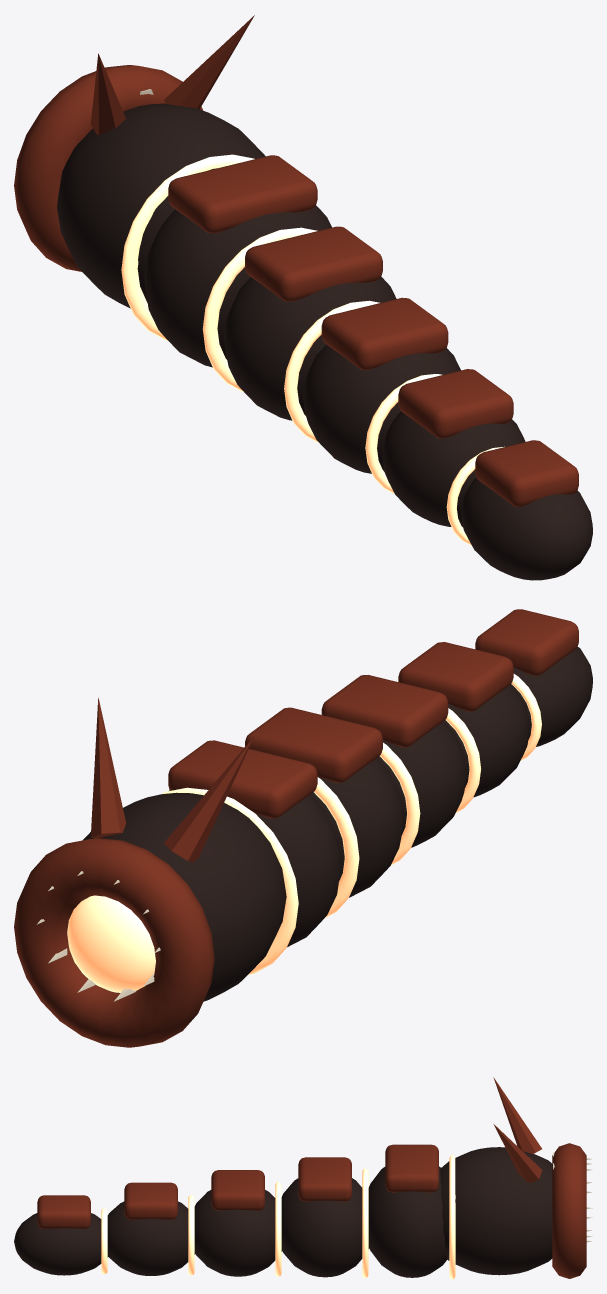
File: enemy_titan_wyrm.glb
The picture shows the model from 3 angles, top to bottom: view 1: azimuth 30°, elevation 25°; view 2: azimuth 150°, elevation 25°; view 3: azimuth 270°, elevation 25°; orthographic projection. The views are drawn at different scales.
Visible parts, largest first — view 1: Head, Seg0, Maw, Seg1, Seg4, Seg2, Seg3, Plate0, Plate1, Plate2, Plate3, Plate4 (+7 smaller); view 2: Maw, Head, Plate0, Core, Plate1, Seg0, Seg1, Plate2, Seg2, Plate3, Seg3, Plate4 (+8 smaller); view 3: Head, Seg0, Seg1, Seg2, Seg3, Maw, Seg4, Plate0, Plate1, Plate2, Plate3, Plate4 (+7 smaller).
Part boxes in pixels (x1,y1,x2,y2): Head: (57,103,265,308); Seg0: (144,205,331,367); Maw: (14,65,202,271); Seg1: (223,276,396,420); Seg4: (461,477,592,580); Seg2: (303,344,460,473); Seg3: (382,411,525,527); Plate0: (168,155,317,233); Plate1: (245,226,382,301); Plate2: (321,297,448,370); Plate3: (398,369,513,438); Plate4: (475,440,578,507); Maw: (14,838,214,1047); Head: (82,792,286,1001); Plate0: (168,740,317,818); Core: (67,895,155,992); Plate1: (245,707,382,782); Seg0: (169,790,341,947); Seg1: (310,758,403,897); Plate2: (321,675,448,747); Seg2: (377,721,466,847); Plate3: (398,642,513,711); Seg3: (443,684,529,797); Plate4: (475,609,578,675); Head: (440,1147,552,1275); Seg0: (368,1166,447,1277); Seg1: (281,1178,369,1277); Seg2: (194,1190,282,1276); Seg3: (107,1201,195,1275); Maw: (552,1143,586,1278); Seg4: (14,1213,108,1275); Plate0: (385,1144,438,1192); Plate1: (298,1157,351,1201); Plate2: (211,1170,264,1210); Plate3: (124,1182,177,1219); Plate4: (37,1195,90,1228).
Bounding box in the file's own units: 2.04 × 2.87 × 8.65.
